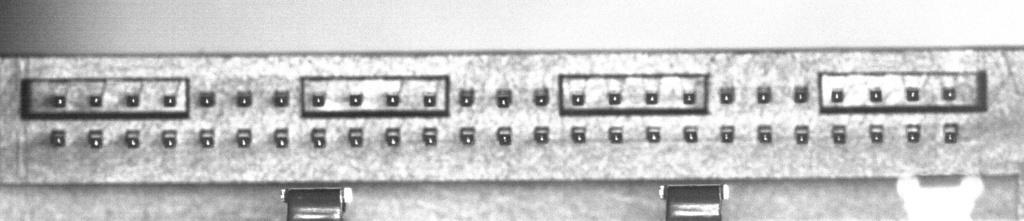pin_ok: (235, 128, 252, 148), (310, 127, 327, 147), (458, 87, 475, 107), (942, 123, 959, 143), (533, 86, 550, 106), (496, 87, 513, 107), (235, 89, 253, 107), (198, 128, 215, 147), (384, 127, 401, 146), (459, 126, 476, 145), (273, 127, 289, 147), (348, 127, 364, 147), (198, 90, 216, 107), (273, 89, 290, 107), (831, 125, 847, 144), (794, 125, 810, 144), (161, 129, 177, 148), (422, 126, 438, 145), (124, 129, 140, 148), (496, 126, 512, 145), (87, 129, 103, 148), (906, 124, 922, 143), (50, 128, 66, 147), (533, 126, 550, 143), (570, 126, 587, 143), (793, 85, 809, 103), (756, 85, 772, 103), (869, 124, 884, 143), (719, 125, 735, 142), (683, 125, 699, 142), (757, 126, 773, 143), (608, 126, 624, 143), (719, 86, 734, 104), (645, 126, 661, 142), (941, 86, 957, 101), (905, 86, 920, 101), (310, 92, 325, 107), (869, 87, 883, 102), (830, 88, 844, 103), (570, 92, 585, 106), (348, 92, 363, 106), (607, 91, 621, 105), (126, 93, 140, 107), (682, 91, 696, 105), (644, 90, 658, 104), (385, 93, 400, 106), (162, 94, 177, 107), (88, 94, 102, 107), (423, 92, 436, 106), (53, 95, 66, 108)
